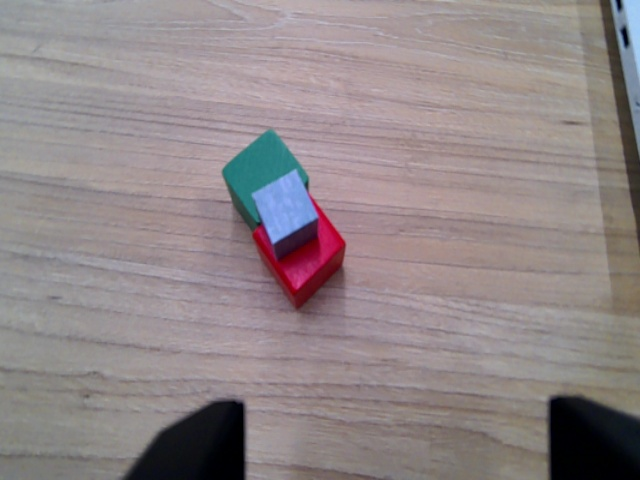stone: (245, 168, 328, 261)
